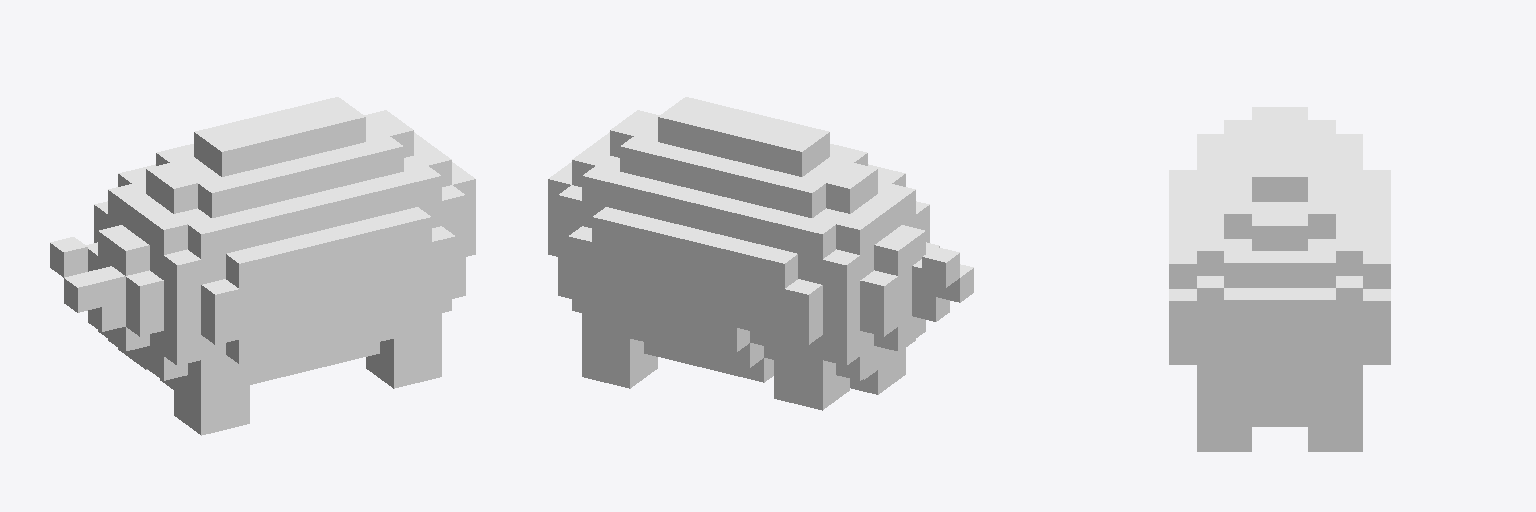
The model's file is PigWalkAnim-1b.obj.
3 views of the same model, side by side, from view 1: azimuth 30°, elevation 25°; view 2: azimuth 150°, elevation 25°; view 3: azimuth 270°, elevation 25° (orthographic).
Size of the model in its own units: 16 by 10 by 8.